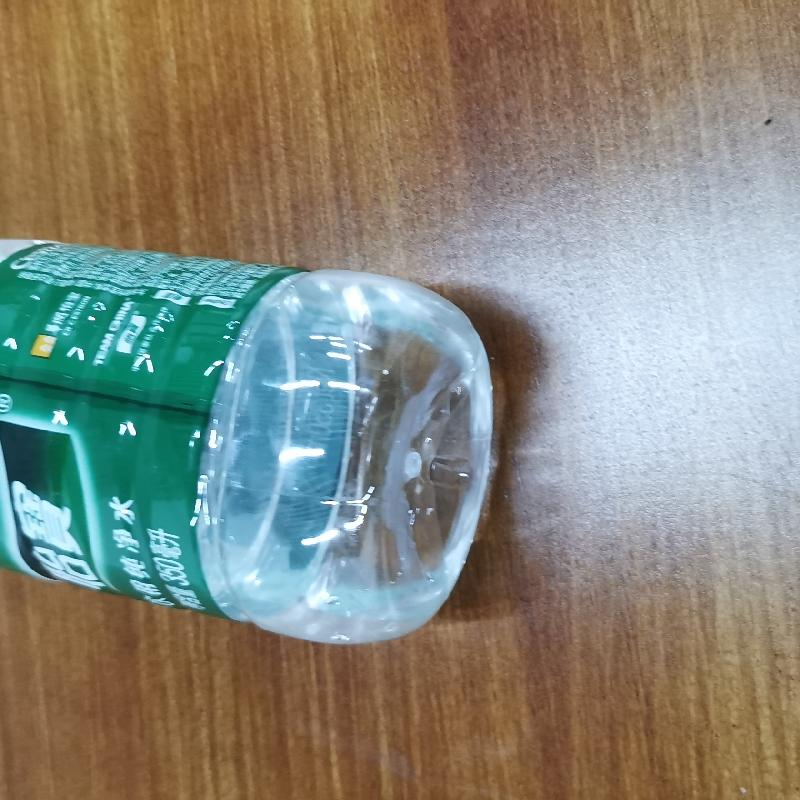bottles: (2, 227, 498, 648)
